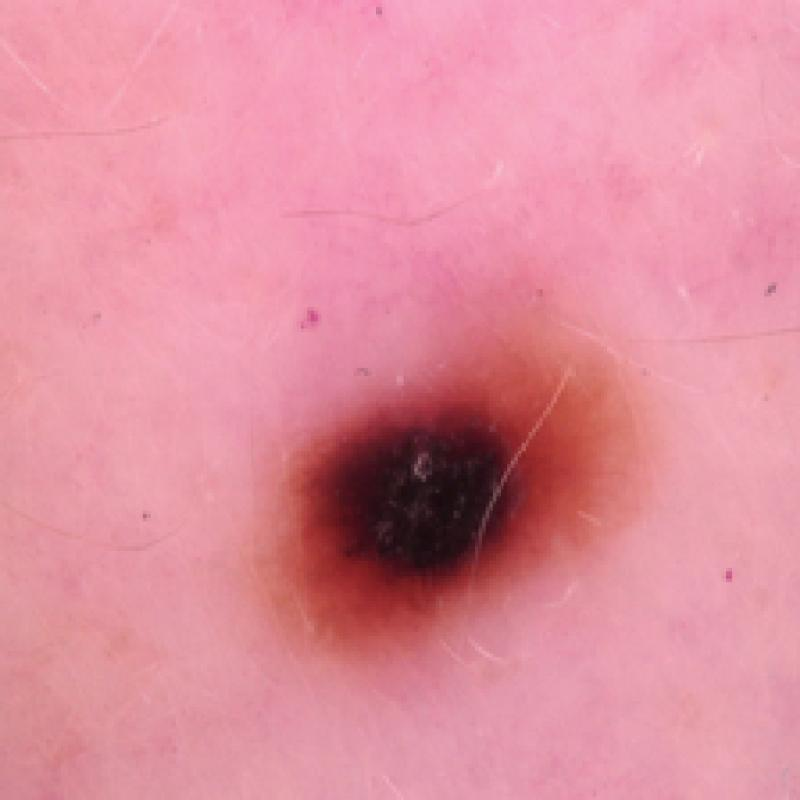benign: (228, 283, 660, 679)
